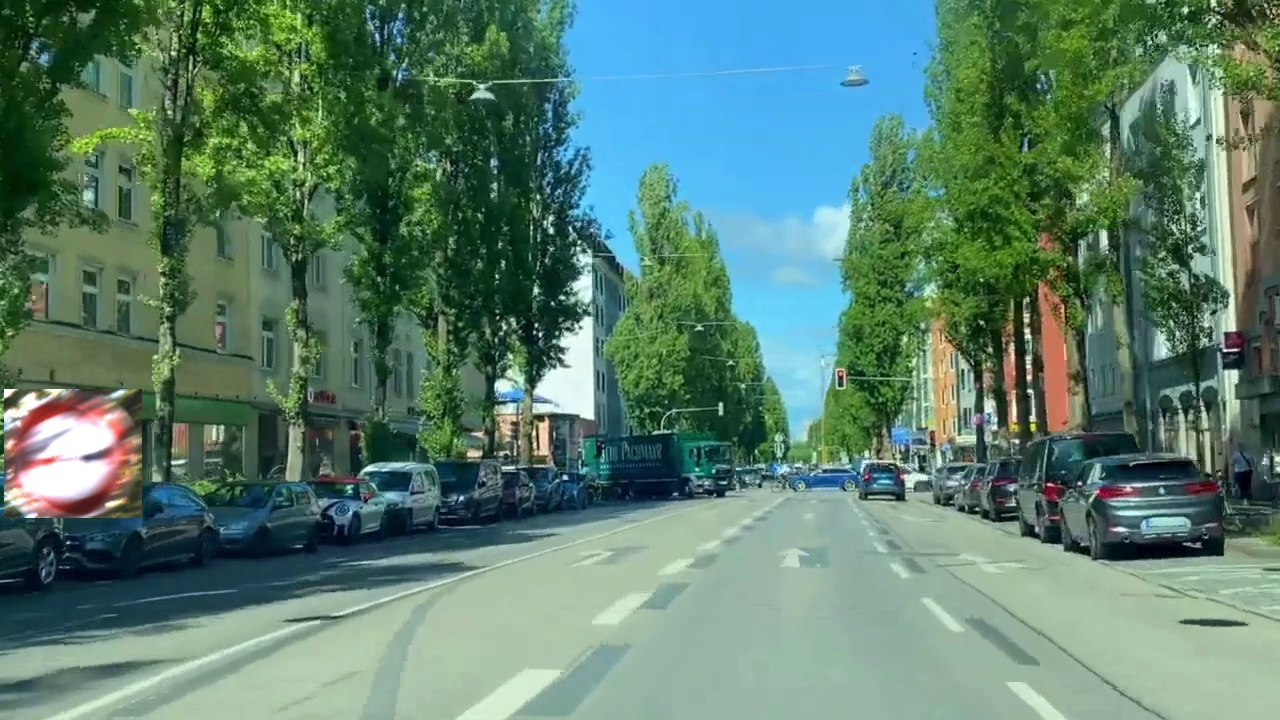No passing: (4, 389, 142, 518)
